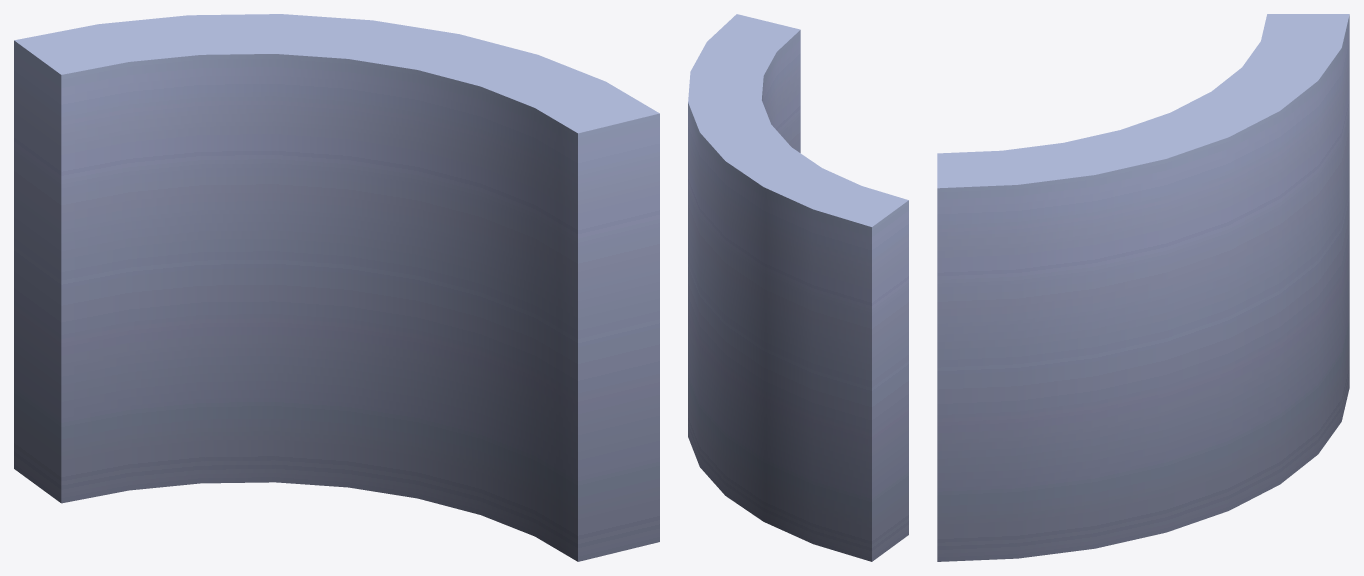
The model's file is wall-round.glb.
The picture shows the model from 3 angles, left to right: view 1: azimuth 30°, elevation 25°; view 2: azimuth 150°, elevation 25°; view 3: azimuth 270°, elevation 25°; orthographic projection. The views are drawn at different scales.
Visible parts, largest first — view 1: wall-round; view 2: wall-round; view 3: wall-round.
Boxes of the visible parts, left/top/right/bottom form: wall-round: left=14, top=14, right=659, bottom=561; wall-round: left=688, top=14, right=908, bottom=561; wall-round: left=937, top=14, right=1349, bottom=561.
Size of the model in its own units: 1 by 1 by 1.
Materials: 1 (1 with a texture image).
